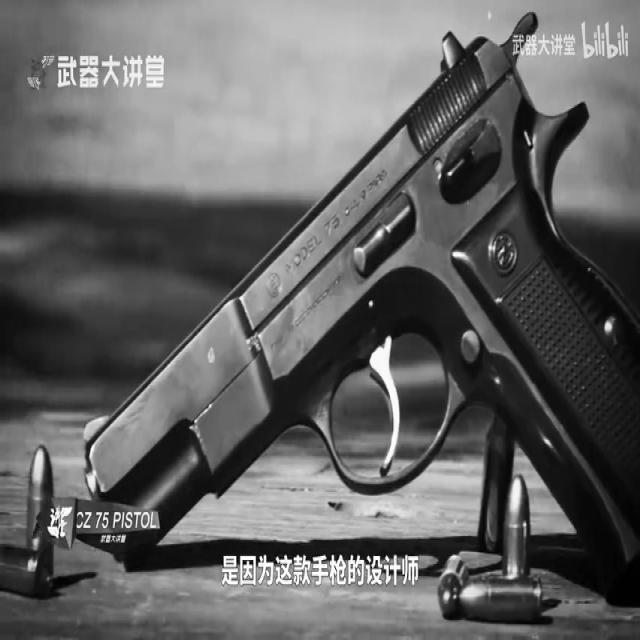Hand-Gun: (73, 4, 597, 588)
